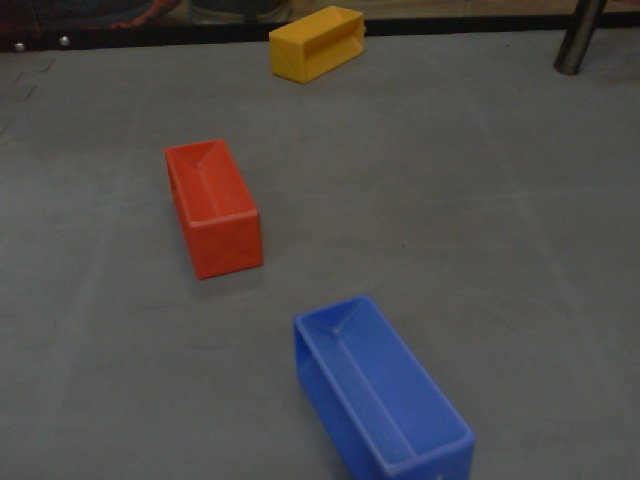BlueSample: (289, 293, 479, 480)
RedSample: (161, 138, 265, 279)
YellowSample: (265, 7, 366, 87)
